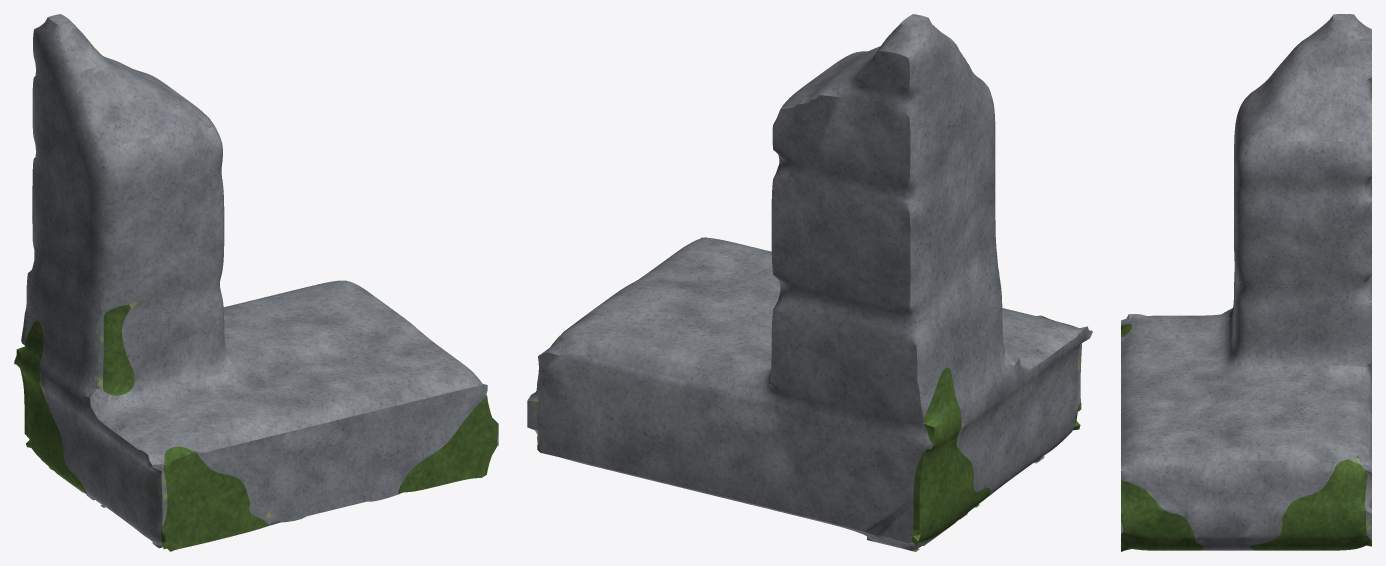
The model's file is ruin_wall_corner.glb.
3 views of the same model, side by side, from view 1: azimuth 30°, elevation 25°; view 2: azimuth 150°, elevation 25°; view 3: azimuth 270°, elevation 25° (orthographic). The views are drawn at different scales.
Visible parts, largest first — view 1: wilds_ruins_ruin_wall_corner; view 2: wilds_ruins_ruin_wall_corner; view 3: wilds_ruins_ruin_wall_corner.
Part boxes in pixels (x1,y1,x2,y2): wilds_ruins_ruin_wall_corner: (14, 14, 498, 551); wilds_ruins_ruin_wall_corner: (527, 14, 1092, 551); wilds_ruins_ruin_wall_corner: (1121, 14, 1371, 551).
Size of the model in its own units: 1.21 by 1.5 by 0.8333.
Materials: 3 (3 with a texture image).
